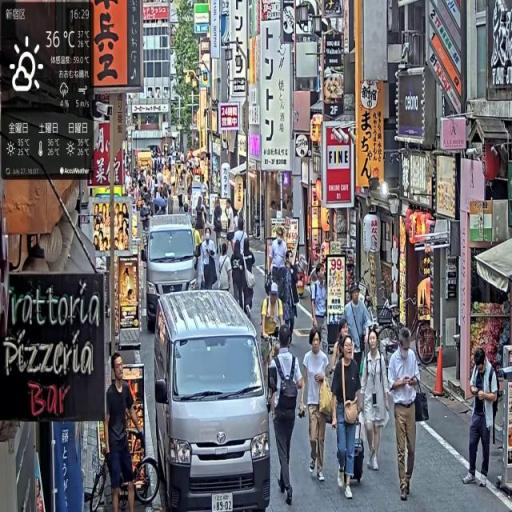person: (387, 324, 429, 503), (268, 327, 307, 508), (106, 354, 143, 512), (332, 334, 365, 503), (464, 348, 501, 489), (301, 328, 333, 483), (361, 329, 391, 475), (311, 265, 329, 360), (214, 198, 225, 259)
